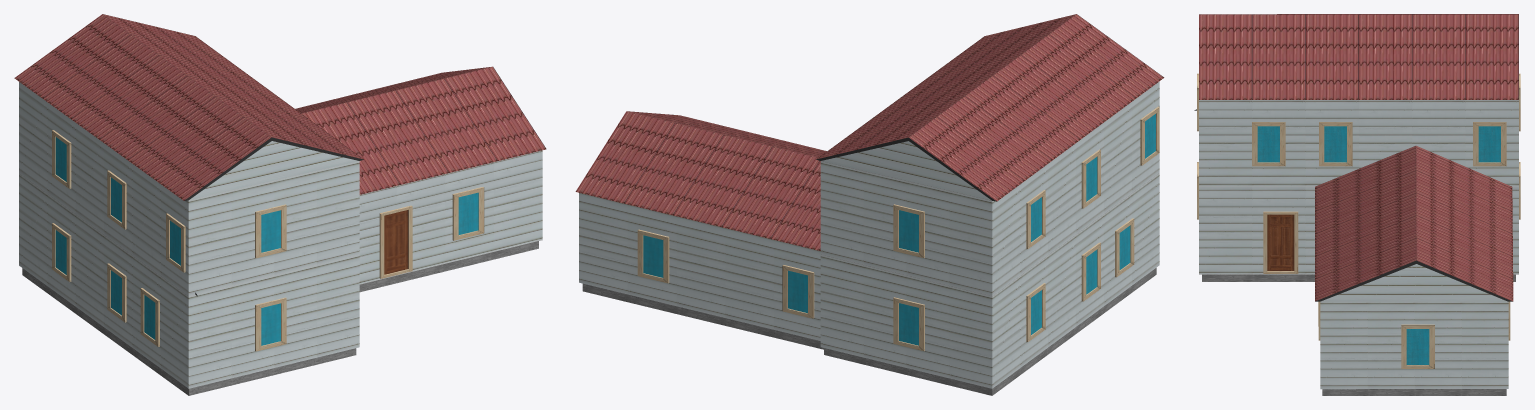
The model's file is Hus5.glb.
3 renders of one model, left to right at view 1: azimuth 30°, elevation 25°; view 2: azimuth 150°, elevation 25°; view 3: azimuth 270°, elevation 25°, orthographic. The views are drawn at different scales.
Parts seen in each view (by area): view 1: Hus5; view 2: Hus5; view 3: Hus5.
Boxes of the visible parts, x1,y1,x2,y2 form: Hus5: (14, 14, 546, 395); Hus5: (575, 14, 1164, 395); Hus5: (1194, 14, 1520, 395).
Bounding box in the file's own units: 16.83 × 9.07 × 11.82.
1 material, 1 textured.
